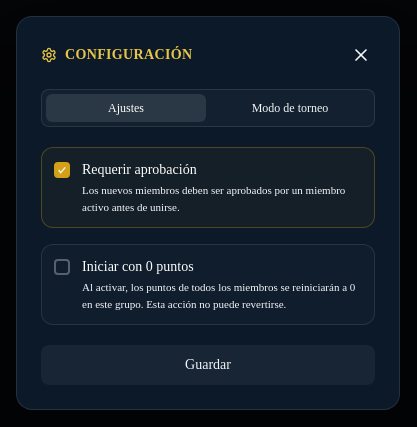
Test: TournamentSettingsModal – Ajustes tab › save button enables when require_approval toggled
This screenshot has width=417, height=427.
What coordinates should you click on to do the following:
click the checkbox named "Requerir aprobación"
I would click on:
 (208, 188)
Its box is [41, 147, 375, 228].
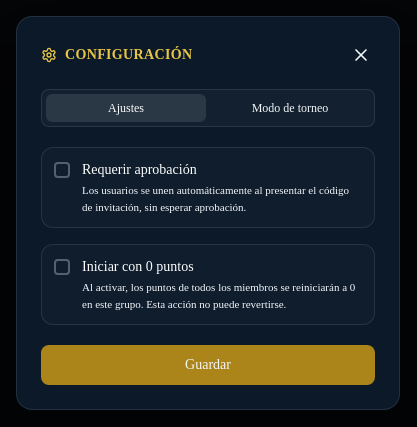
Expected: the button "Guardar" is enabled, [41, 345, 375, 385]
